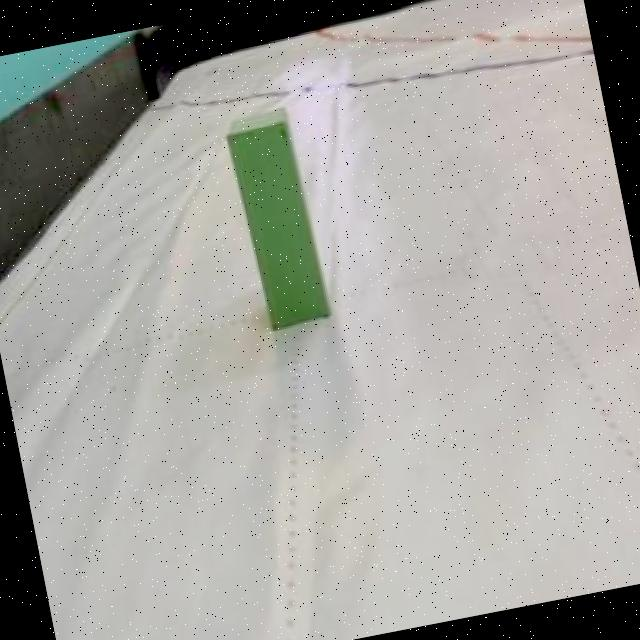greenbox: (219, 102, 330, 332)
